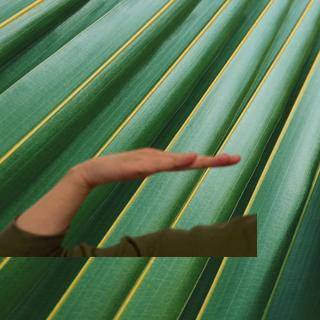WAIT: (73, 141, 245, 184)
